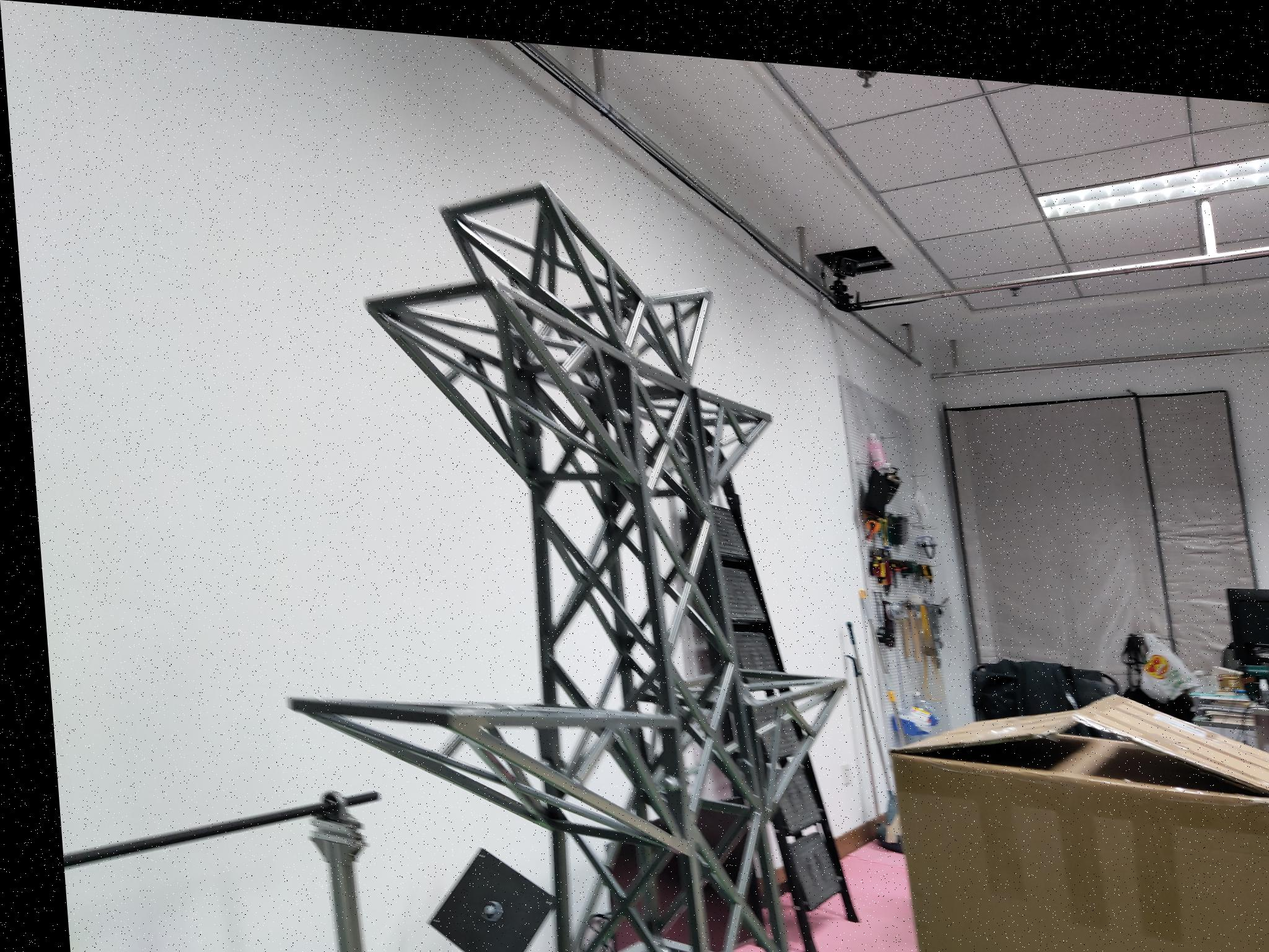tower: (272, 155, 871, 952)
